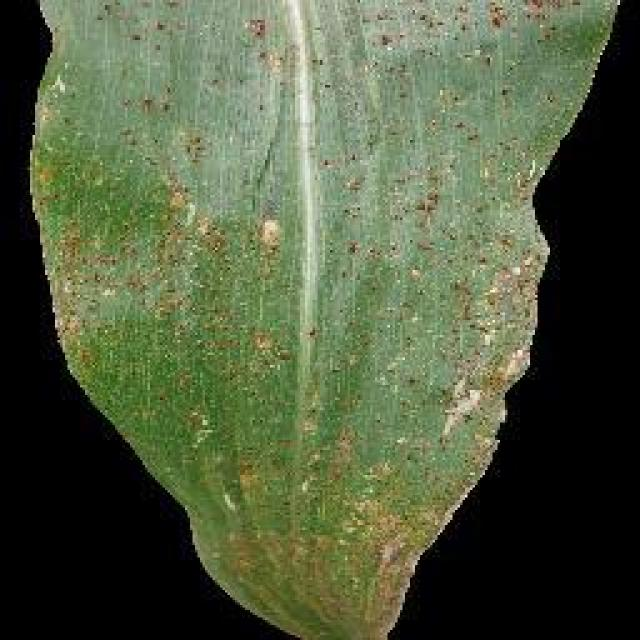Corn Common Rust: (110, 42, 532, 543)
